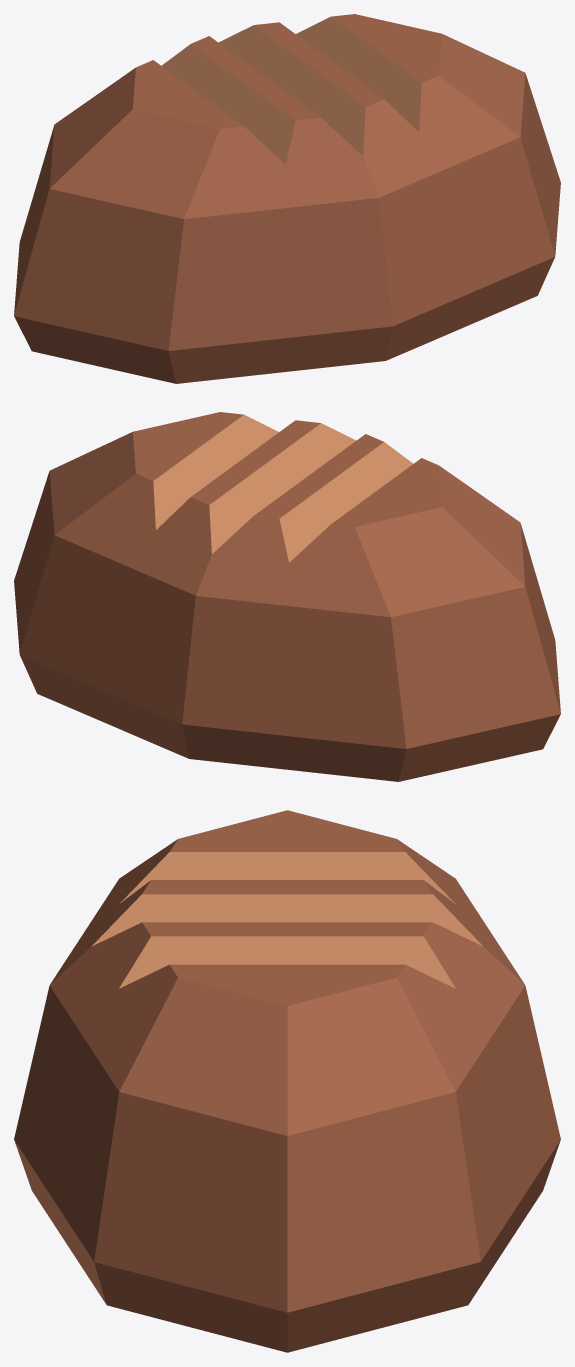
File: loafRound.fbx
3 renders of one model, top to bottom at view 1: azimuth 30°, elevation 25°; view 2: azimuth 150°, elevation 25°; view 3: azimuth 270°, elevation 25°, orthographic. The views are drawn at different scales.
Parts seen in each view (by area): view 1: loafRound; view 2: loafRound; view 3: loafRound.
Part boxes in pixels (x1,y1,x2,y2): loafRound: (14, 14, 560, 383); loafRound: (14, 412, 560, 781); loafRound: (14, 810, 560, 1352).
Bounding box in the file's own units: 7.72 × 2.93 × 5.14.
